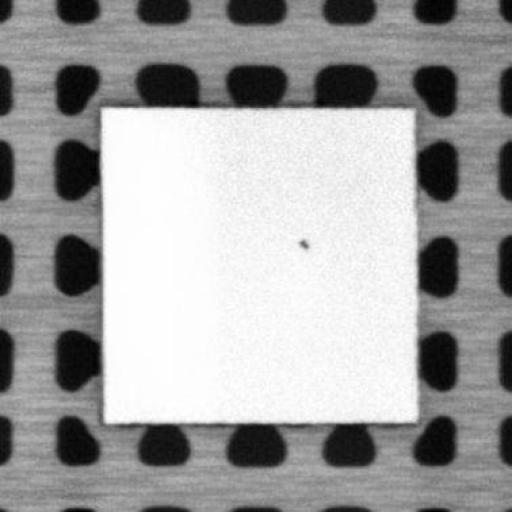DIE_INK: (294, 235, 310, 247)
